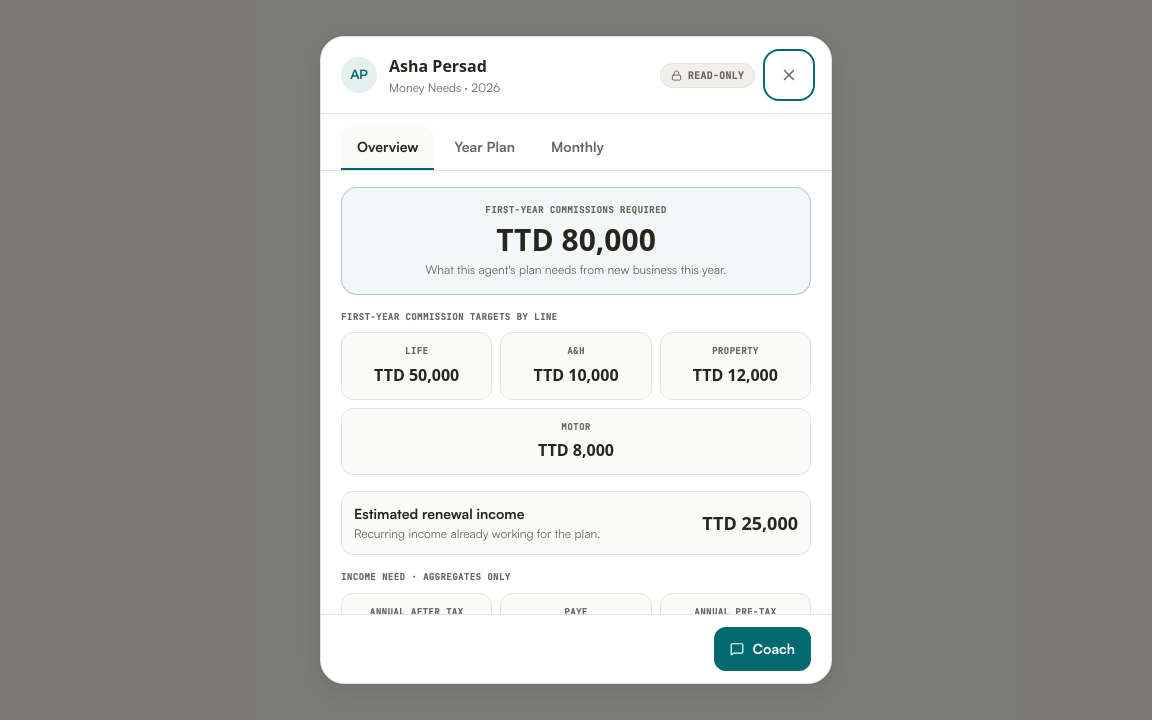
Test: AgentPlanDrawer — Year Plan tab › permission-denied renders the NEUTRAL unavailable state, not an error
This screenshot has width=1152, height=720.
Step 1. Click the tab with test id "tpd-tab-year" → point(485, 148), box left=438, top=126, right=531, bottom=170
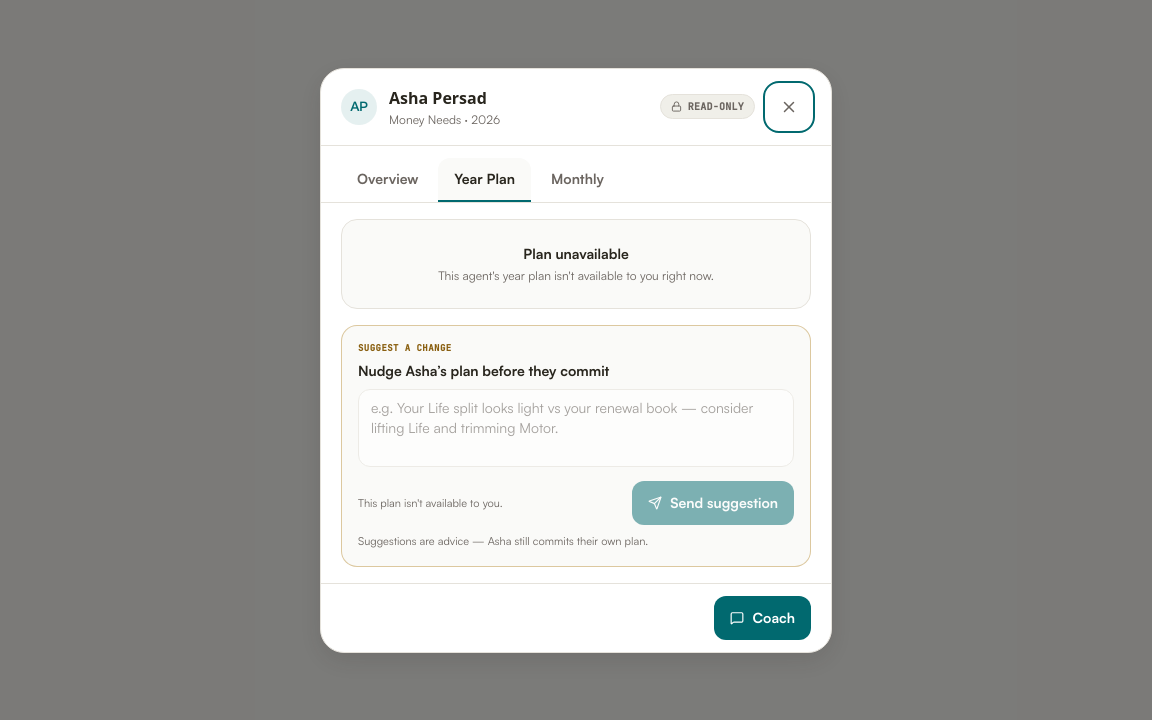
Now the element with test id "tpd-year-unavailable" is shown, box left=341, top=218, right=811, bottom=308
